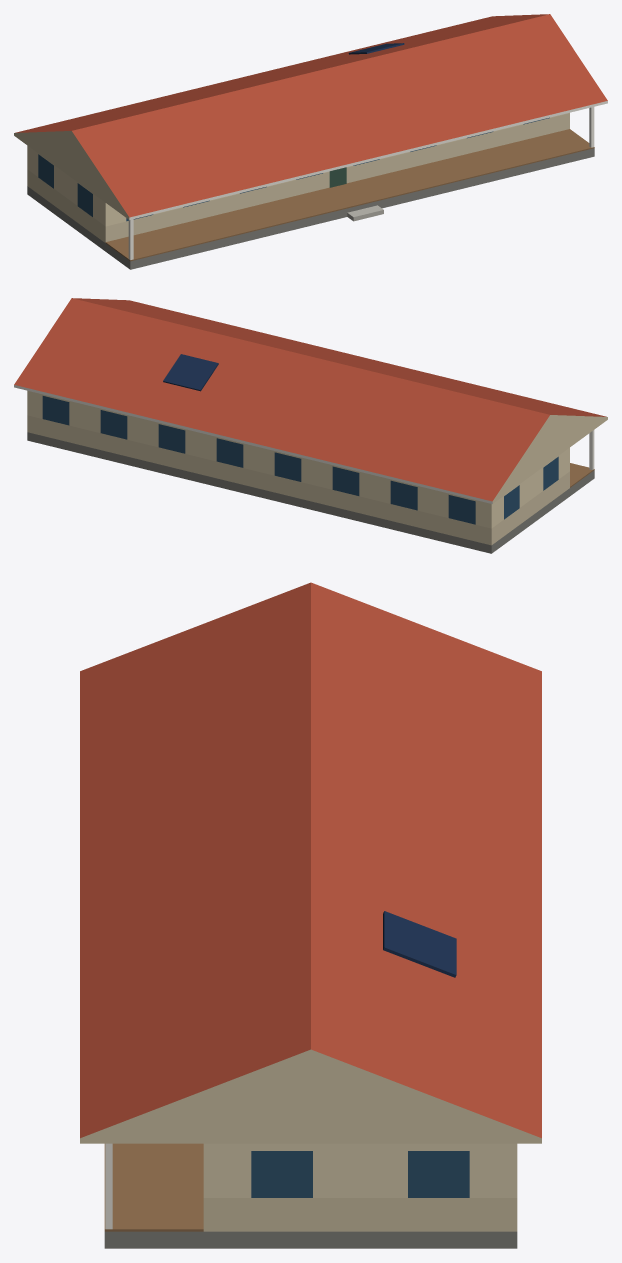
The model's file is house_26x10_lod1.glb.
3 renders of one model, top to bottom at view 1: azimuth 30°, elevation 25°; view 2: azimuth 150°, elevation 25°; view 3: azimuth 270°, elevation 25°, orthographic. The views are drawn at different scales.
Parts seen in each view (by area): view 1: house; view 2: house; view 3: house.
Boxes of the visible parts, box(x1,y1,x2,y2) form: house: box(14, 14, 607, 269); house: box(14, 298, 607, 553); house: box(80, 582, 541, 1248).
Bounding box in the file's own units: 26.8 × 5.51 × 11.2.
